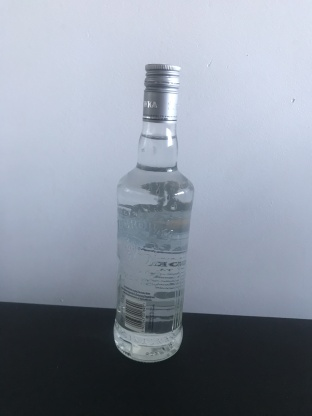nakretka: (141, 61, 182, 124)
